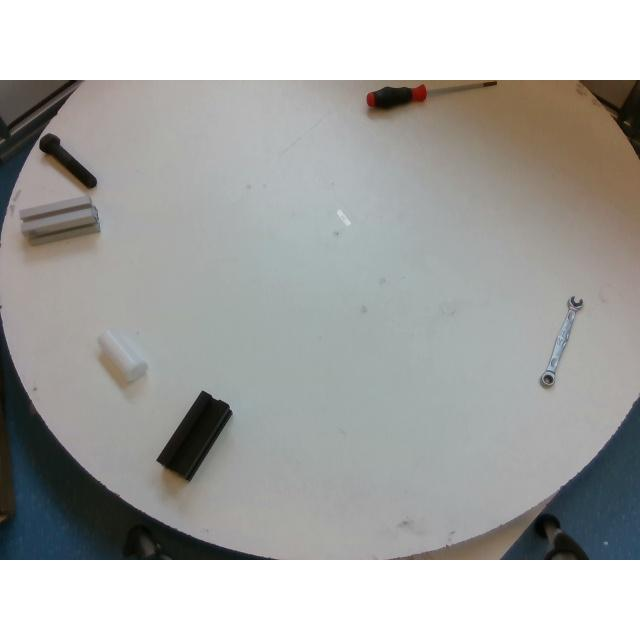M20_100: (39, 132, 97, 188)
S40_40_B: (156, 392, 232, 481)
S40_40_G: (19, 195, 99, 243)
Spacer: (98, 328, 146, 384)
Wrench: (539, 296, 583, 388)
